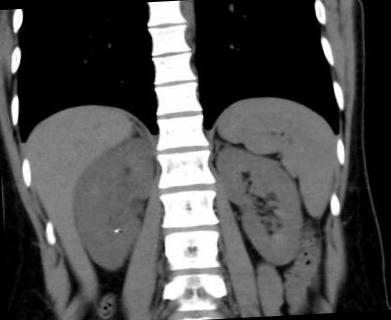Tas_Var: (112, 228, 118, 235)
